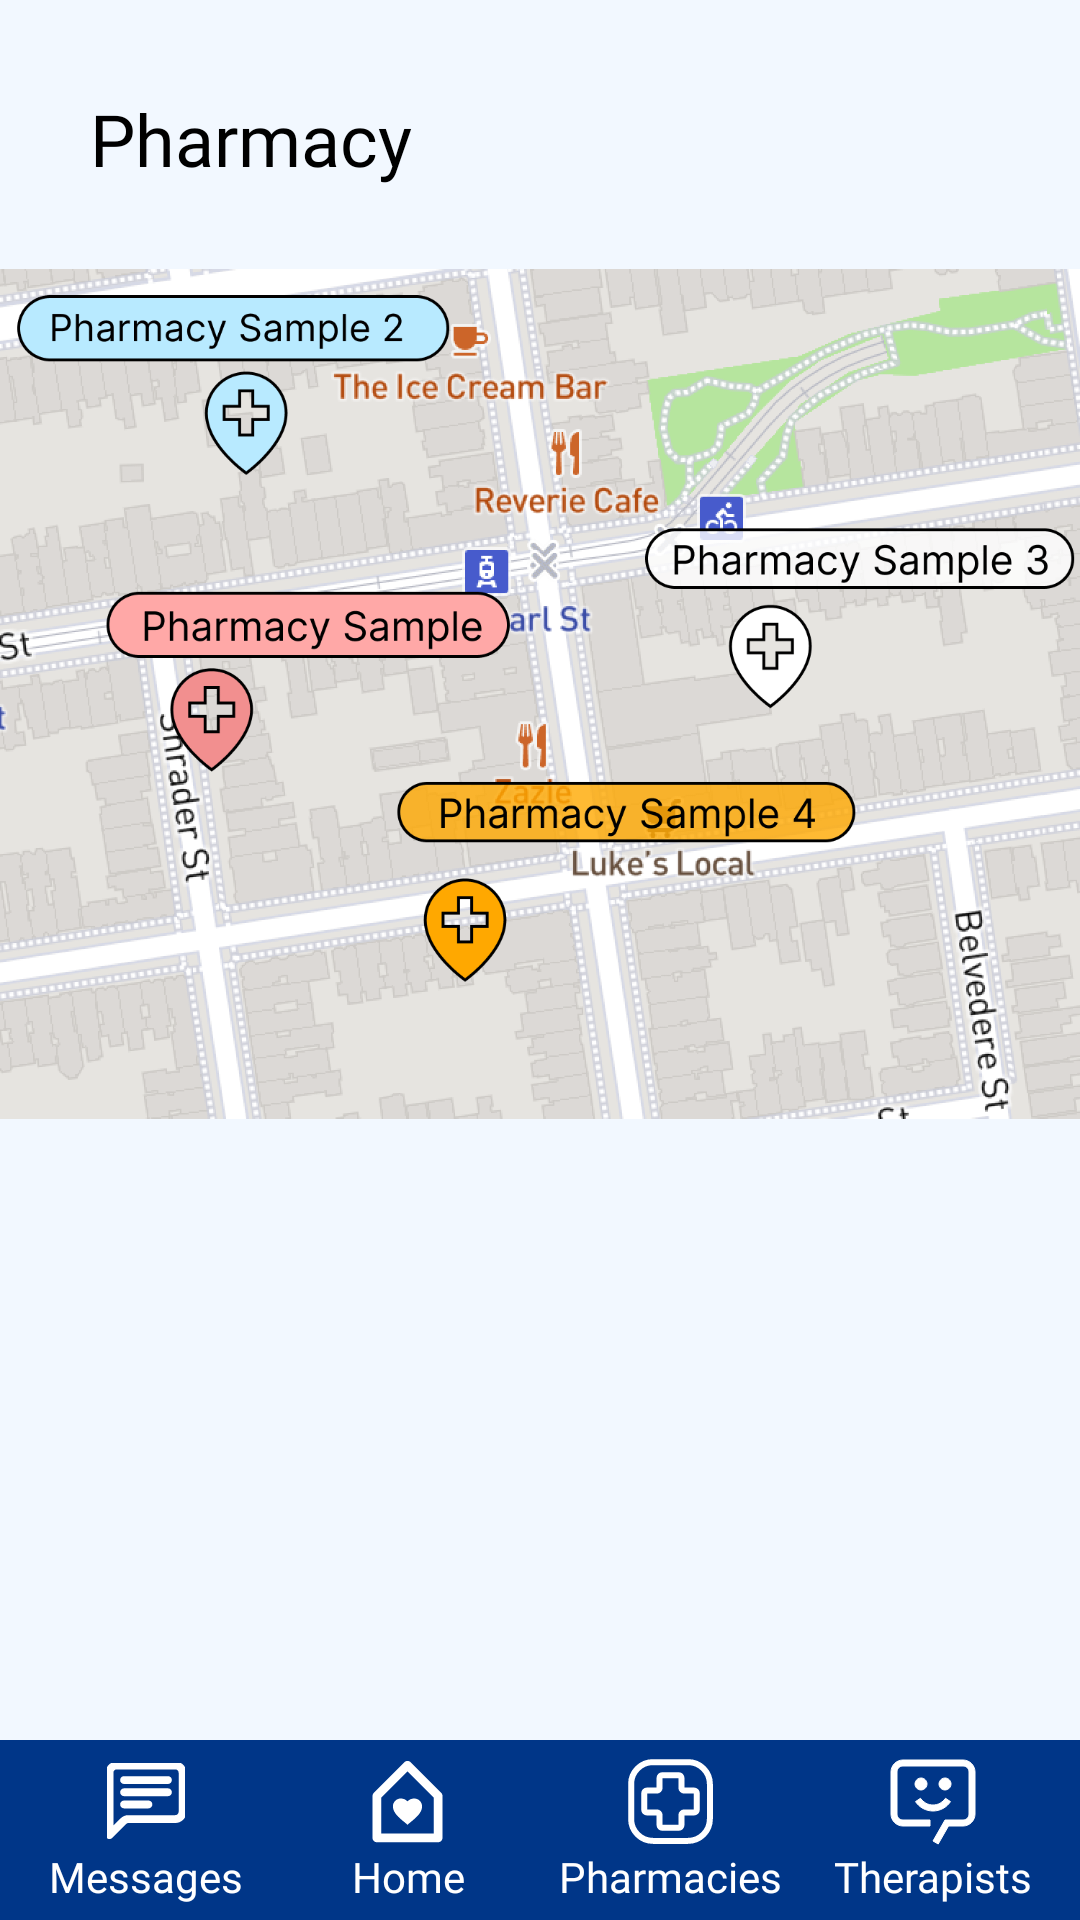

Named icons in this screenshot (1080px×1920px) and their centers, (x=x, y=y):
smile: (x=933, y=1802)
